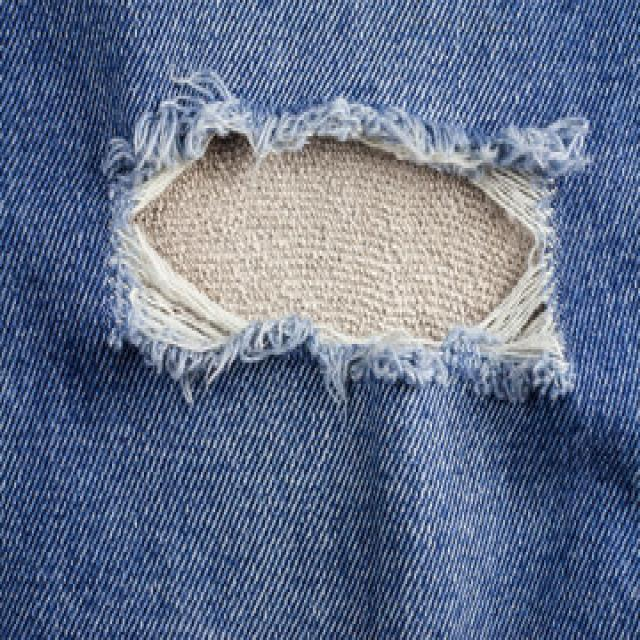Hole: (93, 67, 593, 400)
